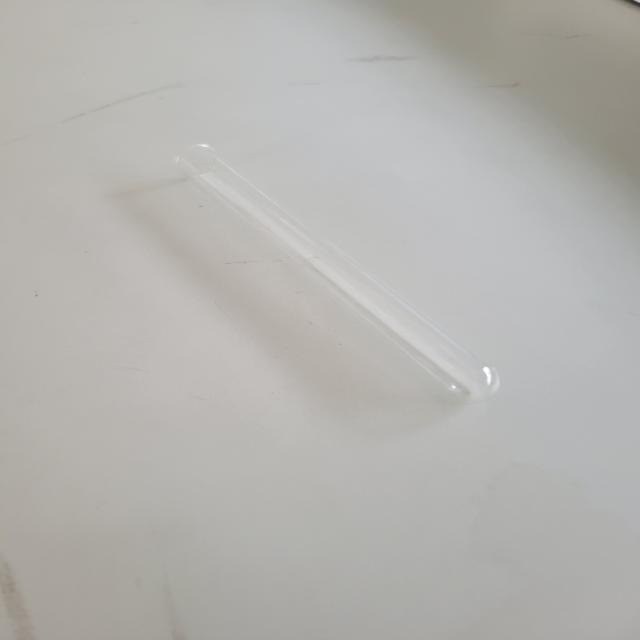Test_Tube: (165, 100, 531, 433)
